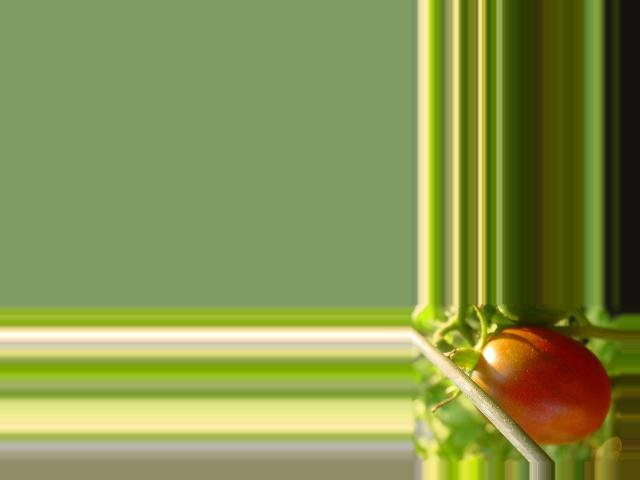tomato: (471, 328, 610, 443)
